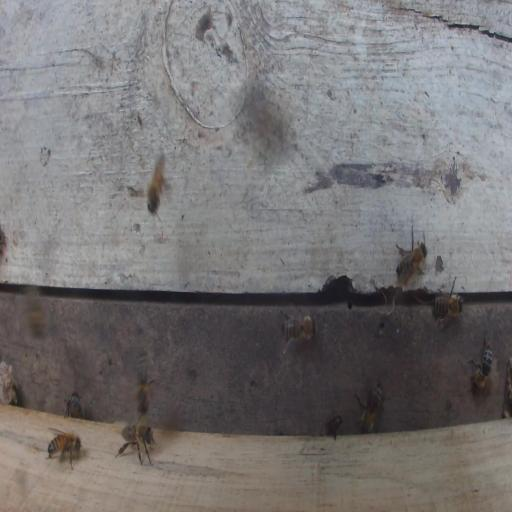Insects: (395, 225, 429, 285), (118, 417, 157, 466), (432, 276, 463, 330), (146, 150, 169, 217), (355, 382, 384, 433), (467, 334, 492, 391), (46, 431, 82, 469), (281, 310, 318, 344), (136, 376, 155, 415), (319, 414, 343, 440), (64, 392, 82, 419)
